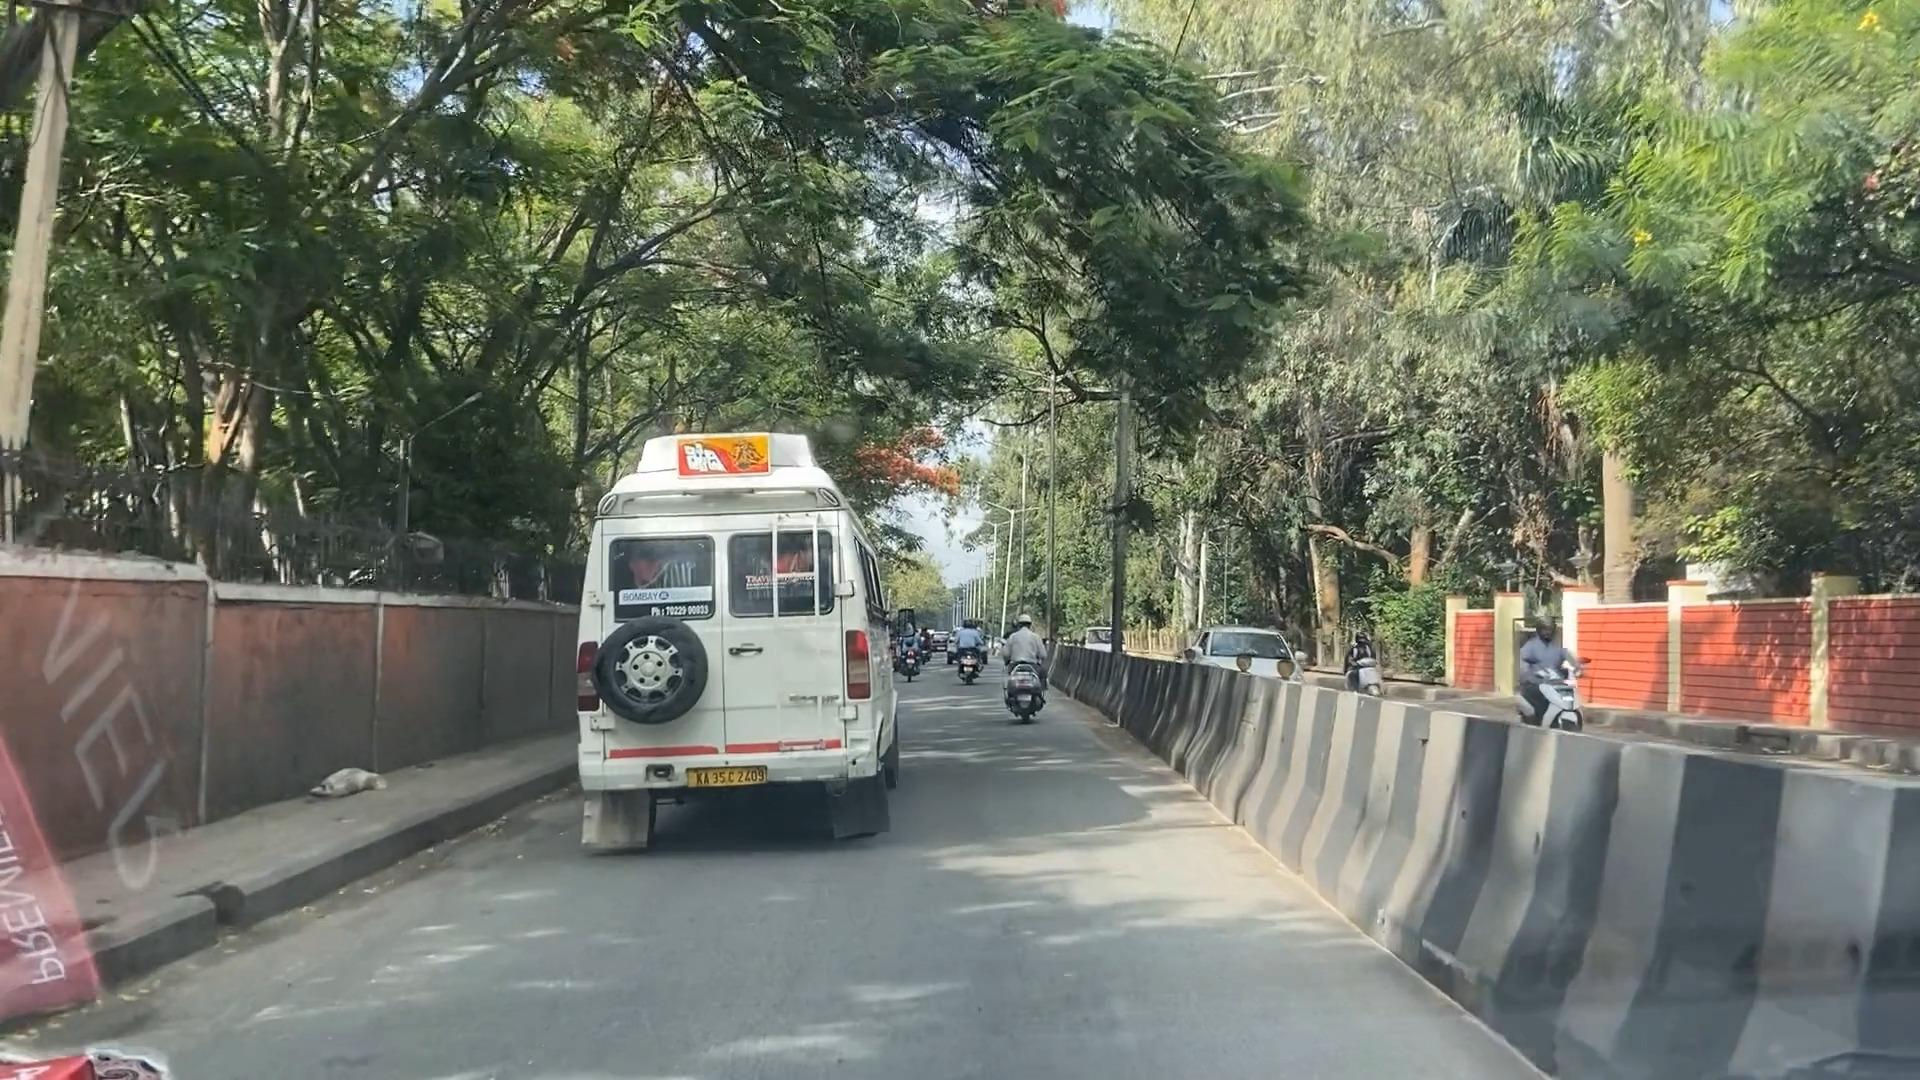HMV: (585, 433, 897, 835)
LMV: (1010, 616, 1048, 723), (956, 615, 978, 684)
